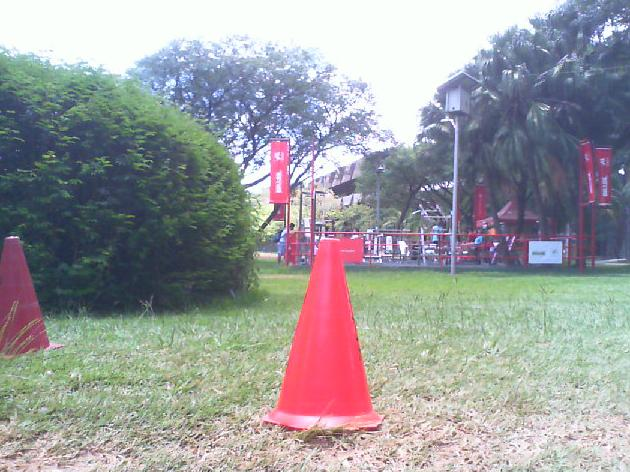0 cone: (262, 238, 385, 430), (0, 236, 65, 359)
